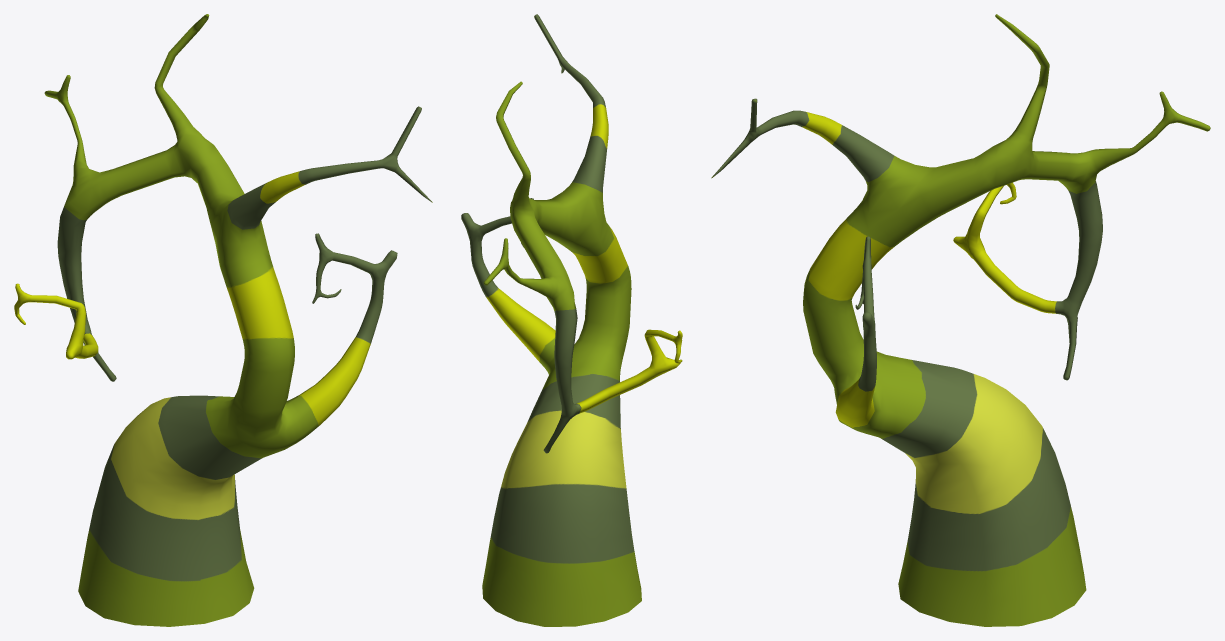
Rendered from Tree_Green.glb.
The picture shows the model from 3 angles, left to right: view 1: azimuth 30°, elevation 25°; view 2: azimuth 150°, elevation 25°; view 3: azimuth 270°, elevation 25°; orthographic projection. The views are drawn at different scales.
Visible parts, largest first — view 1: tree_02 03_tree 02_03_0; view 2: tree_02 03_tree 02_03_0; view 3: tree_02 03_tree 02_03_0.
Part boxes in pixels (x1,y1,x2,y2): tree_02 03_tree 02_03_0: [14, 14, 432, 626]; tree_02 03_tree 02_03_0: [461, 14, 682, 626]; tree_02 03_tree 02_03_0: [711, 14, 1210, 626].
Bounding box in the file's own units: 0.1781 × 0.3056 × 0.2324.
Materials: 1 (1 with a texture image).
